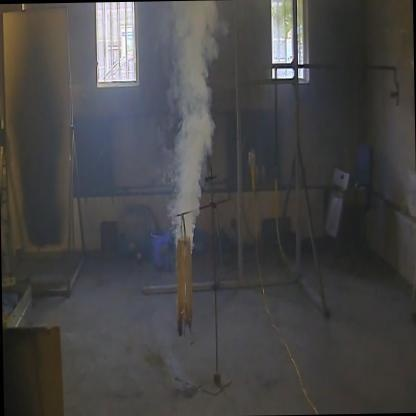smoke: (156, 5, 227, 313)
